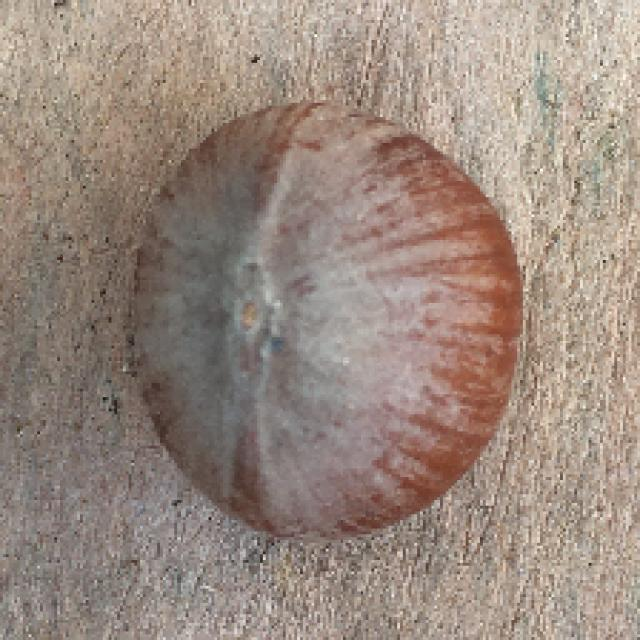qualityHazelnut: (128, 106, 520, 540)
